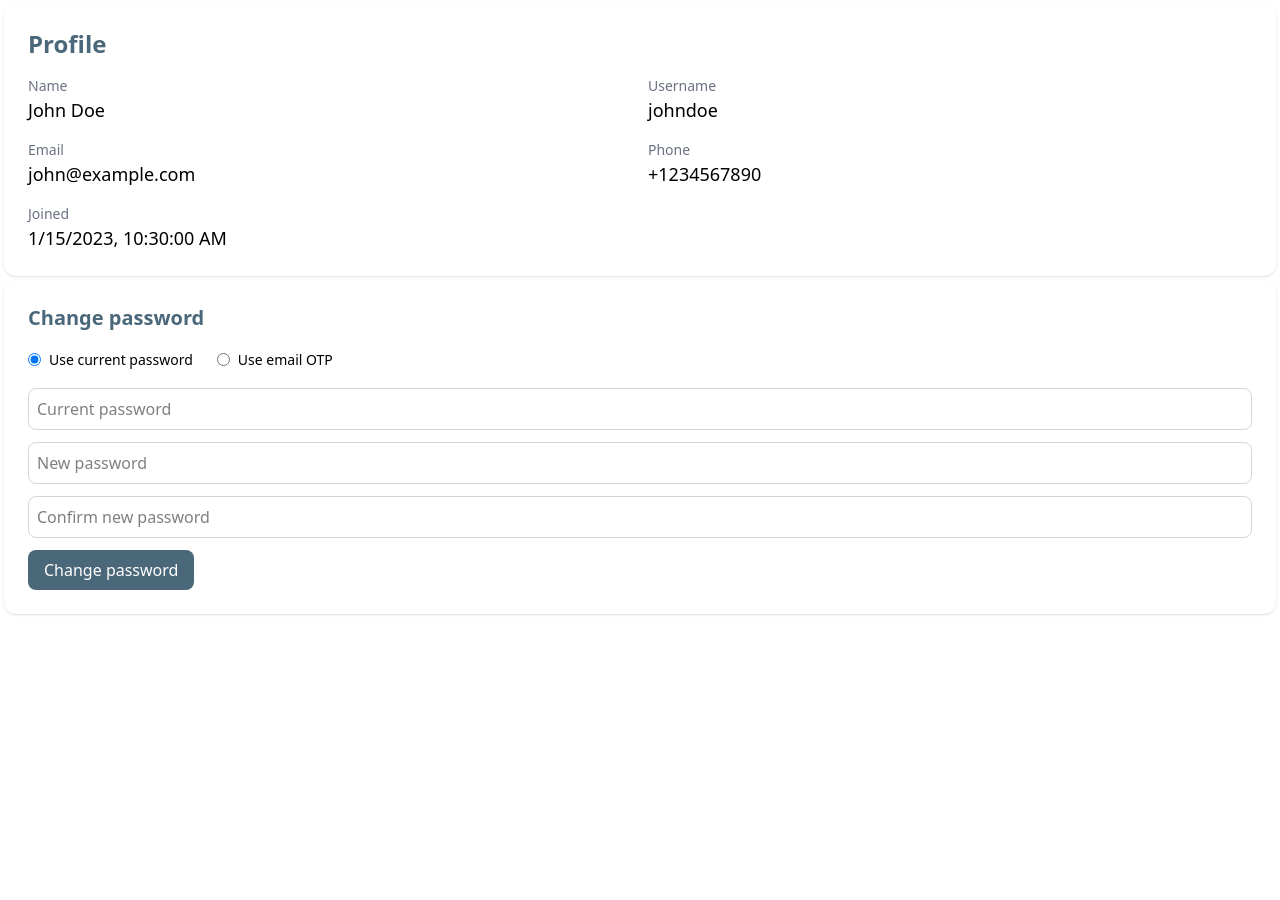
Test: Profile Component › Change Password - Current Password Method › should successfully change password with correct input
Check: the heading "Change password" is shown, box [28,304,204,331]
Type "currentPass123" into the password field with placeholder "Current password" at x=640, y=409, box [28,388,1252,430]
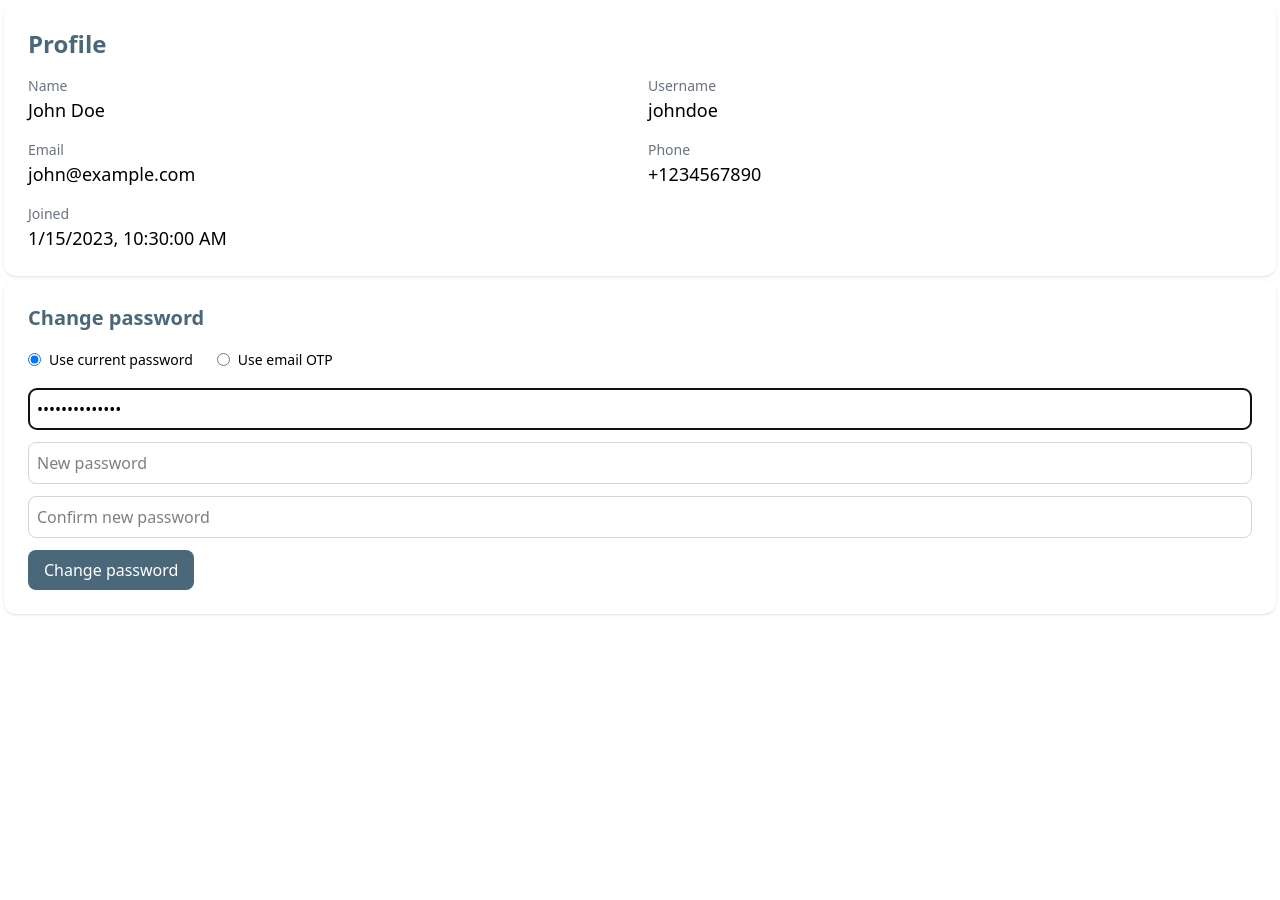
Type "newPass123" into the password field with placeholder "New password" at x=640, y=463, box [28,442,1252,484]
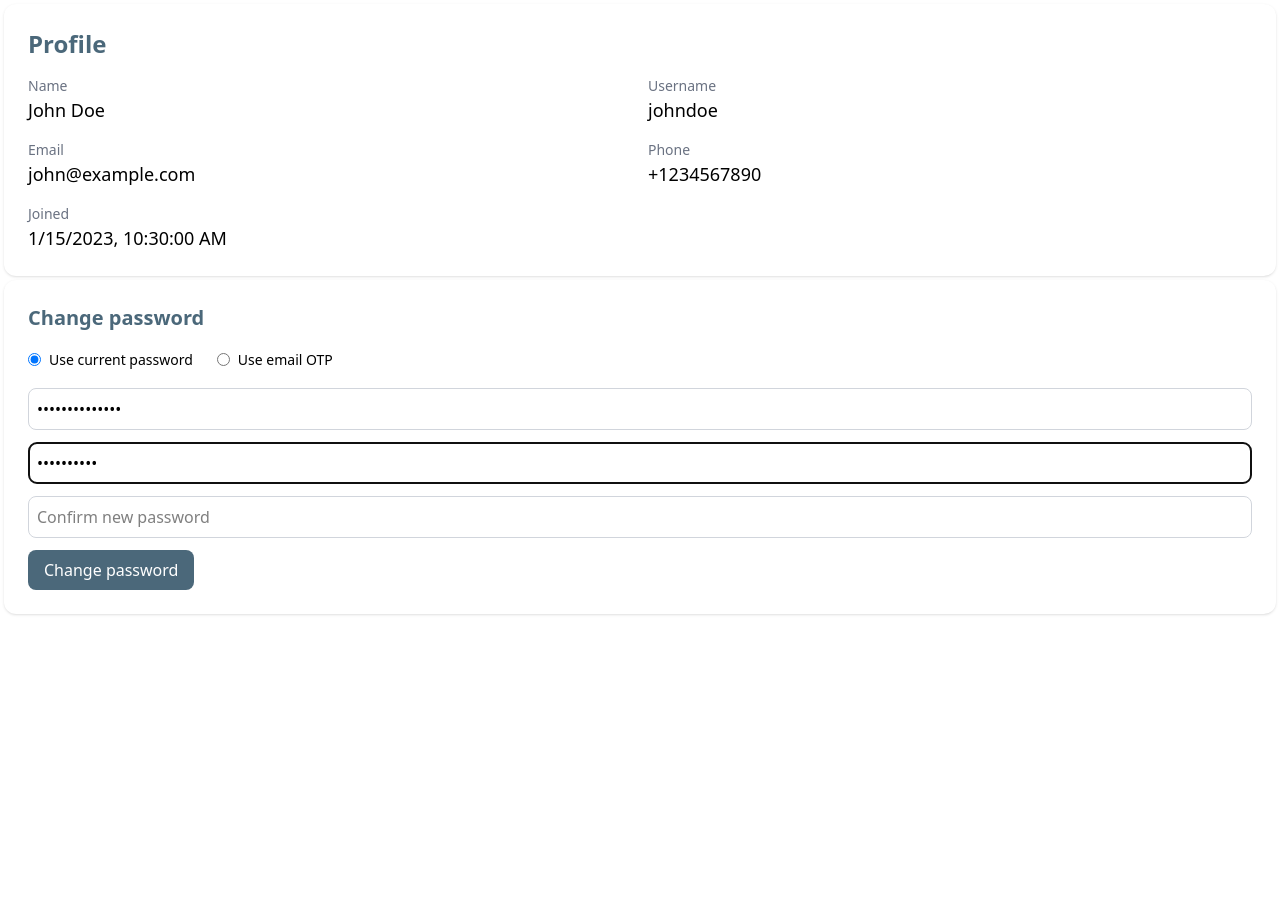
Type "newPass123" into the password field with placeholder "Confirm new password" at x=640, y=517, box [28,496,1252,538]
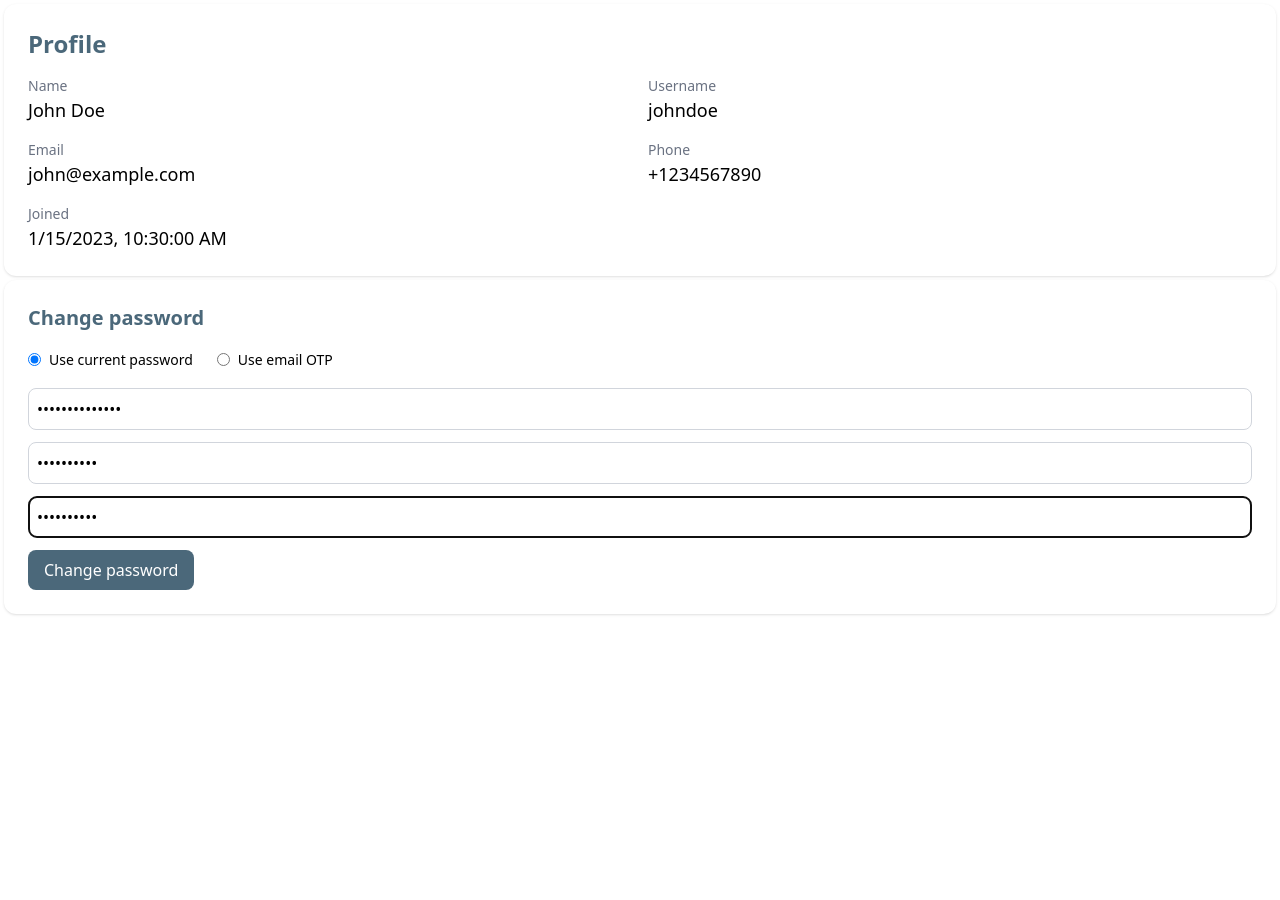
Click the button "Change password" at x=111, y=570, box [28,550,194,590]
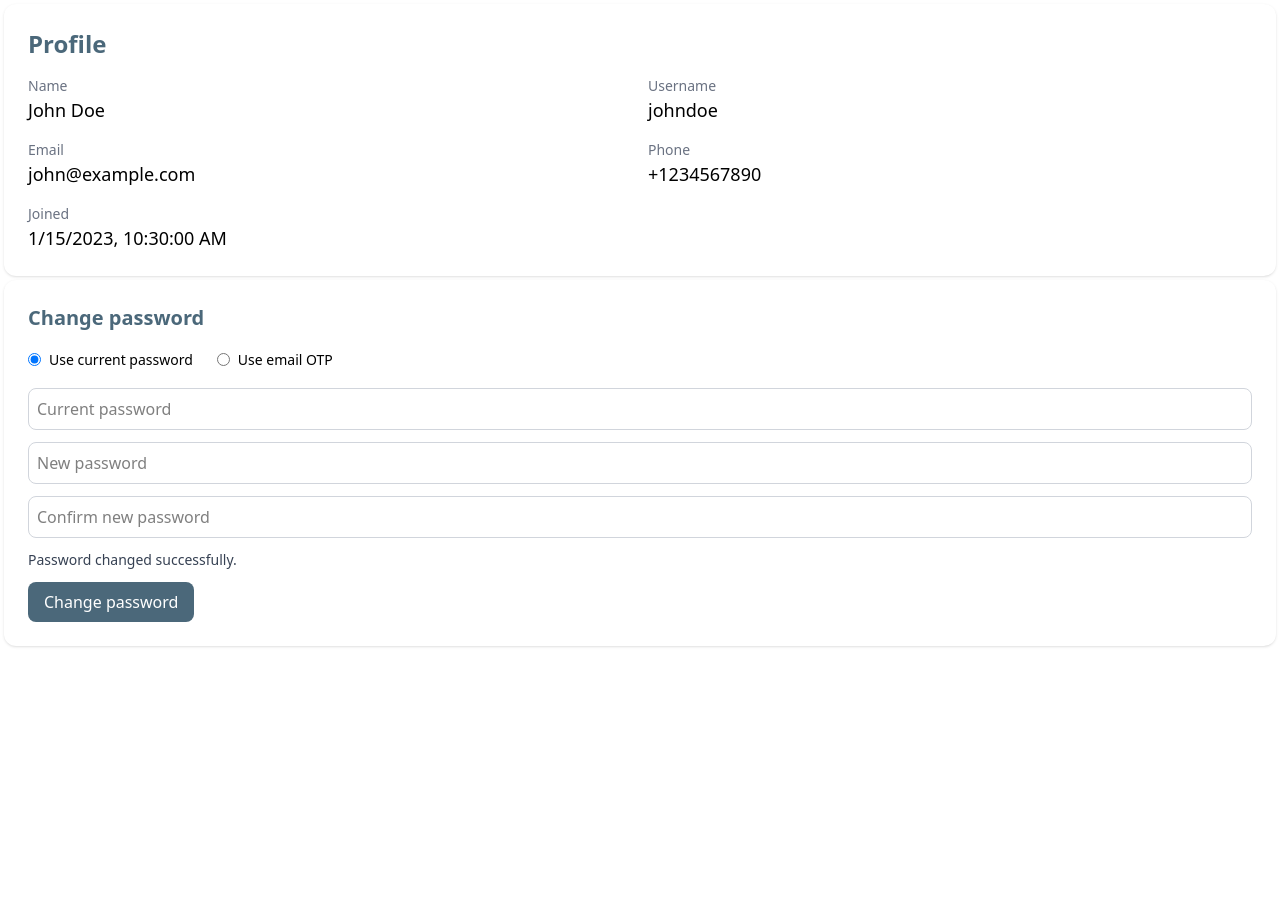
Check: the text "Password changed successfully." is shown, box [28,550,237,569]
